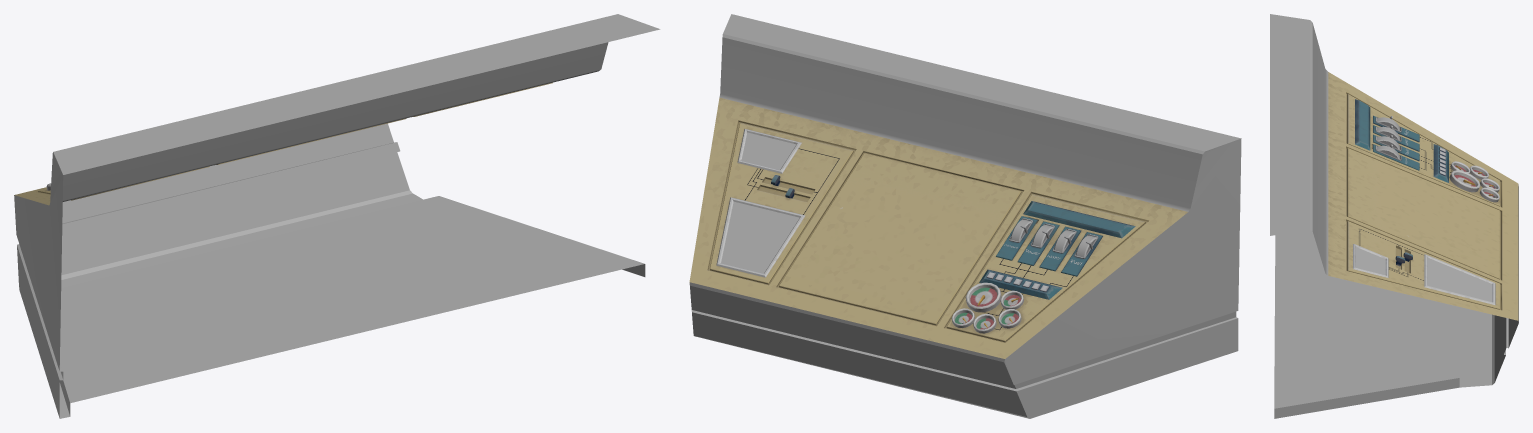
Rendered from G_Desk_end.fbx.
3 views of the same model, side by side, from view 1: azimuth 30°, elevation 25°; view 2: azimuth 150°, elevation 25°; view 3: azimuth 270°, elevation 25° (orthographic). The views are drawn at different scales.
Parts seen in each view (by area): view 1: G_Desk_01, G_Console_Surface_02; view 2: G_Desk_01, G_Console_Surface_02, G_Greeble_End, G_Scrolling_Text, G_RotaryDial_S, G_RotaryDial_R; view 3: G_Desk_01, G_Console_Surface_02, G_Greeble_End, G_Scrolling_Text, G_RotaryDial_S, G_RotaryDial_R.
Part boxes in pixels (x1=…): G_Desk_01: x1=14, y1=14, x2=660, y2=418; G_Console_Surface_02: x1=14, y1=82, x2=552, y2=205; G_Desk_01: x1=689, y1=14, x2=1241, y2=418; G_Console_Surface_02: x1=689, y1=97, x2=1187, y2=358; G_Greeble_End: x1=951, y1=201, x2=1135, y2=333; G_Scrolling_Text: x1=721, y1=132, x2=799, y2=273; G_RotaryDial_S: x1=1010, y1=219, x2=1053, y2=246; G_RotaryDial_R: x1=1054, y1=230, x2=1096, y2=257; G_Desk_01: x1=1270, y1=14, x2=1518, y2=418; G_Console_Surface_02: x1=1328, y1=72, x2=1518, y2=320; G_Greeble_End: x1=1355, y1=99, x2=1499, y2=202; G_Scrolling_Text: x1=1356, y1=247, x2=1491, y2=301; G_RotaryDial_S: x1=1377, y1=136, x2=1400, y2=159; G_RotaryDial_R: x1=1377, y1=117, x2=1400, y2=140.
Bounding box in the file's own units: 93.76 × 37.02 × 44.4.
